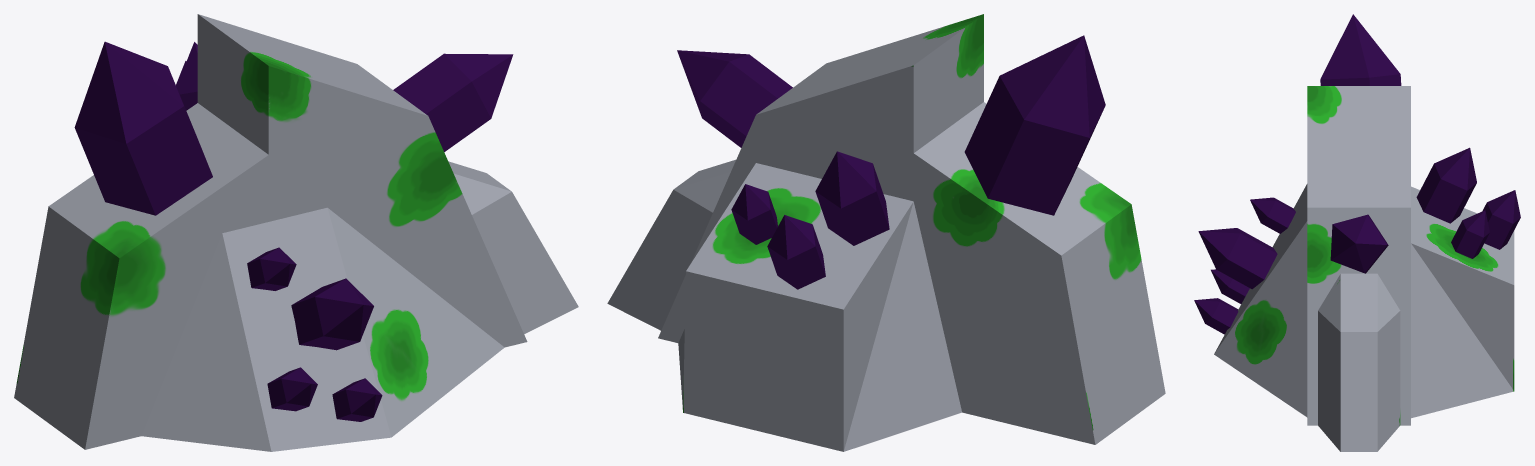
File: ObsidianaMusgoTipo2.fbx
3 views of the same model, side by side, from view 1: azimuth 30°, elevation 25°; view 2: azimuth 150°, elevation 25°; view 3: azimuth 270°, elevation 25° (orthographic). The views are drawn at different scales.
Visible parts, largest first — view 1: base.047, obsidiana.030, obsidiana.031, obsidiana.028, obsidiana.027, obsidiana.026, obsidiana.029, obsidiana.025; view 2: base.047, obsidiana.030, obsidiana.031, obsidiana.025, obsidiana.023, obsidiana.024; view 3: base.047, obsidiana.030, obsidiana.028, obsidiana.025, obsidiana.031, obsidiana.023, obsidiana.024, obsidiana.029, obsidiana.026, obsidiana.027.
Part boxes in pixels (<box>): base.047: <box>14,14,578,451</box>; obsidiana.030: <box>74,41,212,215</box>; obsidiana.031: <box>393,53,513,151</box>; obsidiana.028: <box>291,278,373,350</box>; obsidiana.027: <box>267,367,317,411</box>; obsidiana.026: <box>332,378,382,421</box>; obsidiana.029: <box>247,247,296,290</box>; obsidiana.025: <box>176,42,197,110</box>; base.047: <box>607,14,1165,451</box>; obsidiana.030: <box>964,35,1105,215</box>; obsidiana.031: <box>677,50,792,147</box>; obsidiana.025: <box>815,151,889,245</box>; obsidiana.023: <box>767,215,825,289</box>; obsidiana.024: <box>731,184,777,244</box>; base.047: <box>1214,86,1514,451</box>; obsidiana.030: <box>1320,14,1401,85</box>; obsidiana.028: <box>1198,228,1277,289</box>; obsidiana.025: <box>1416,147,1476,223</box>; obsidiana.031: <box>1330,214,1388,273</box>; obsidiana.023: <box>1482,190,1520,249</box>; obsidiana.024: <box>1451,210,1489,258</box>; obsidiana.029: <box>1250,197,1295,233</box>; obsidiana.026: <box>1194,298,1238,334</box>; obsidiana.027: <box>1211,269,1249,303</box>.
Size of the model in its own units: 140 by 96.67 by 105.
